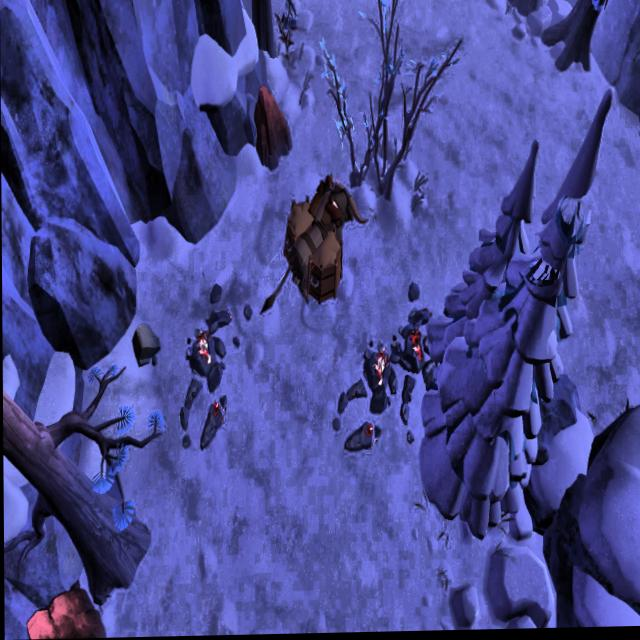rock_t5: (25, 583, 102, 639), (250, 84, 294, 175)
